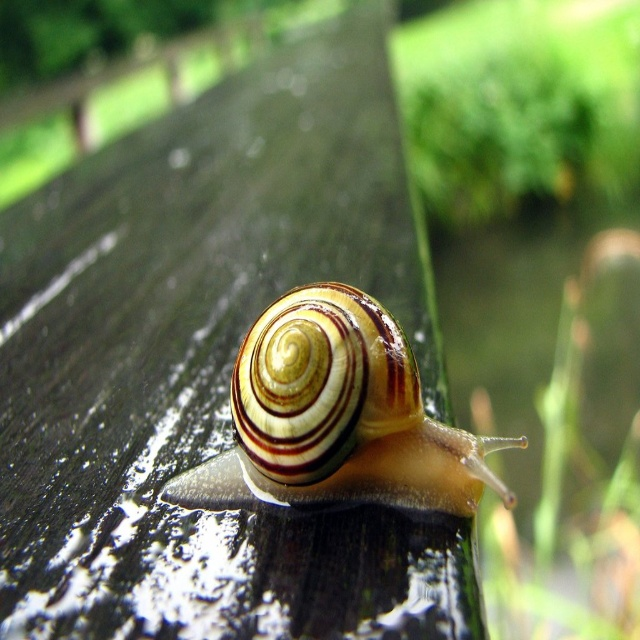Snail: (160, 280, 528, 520)
